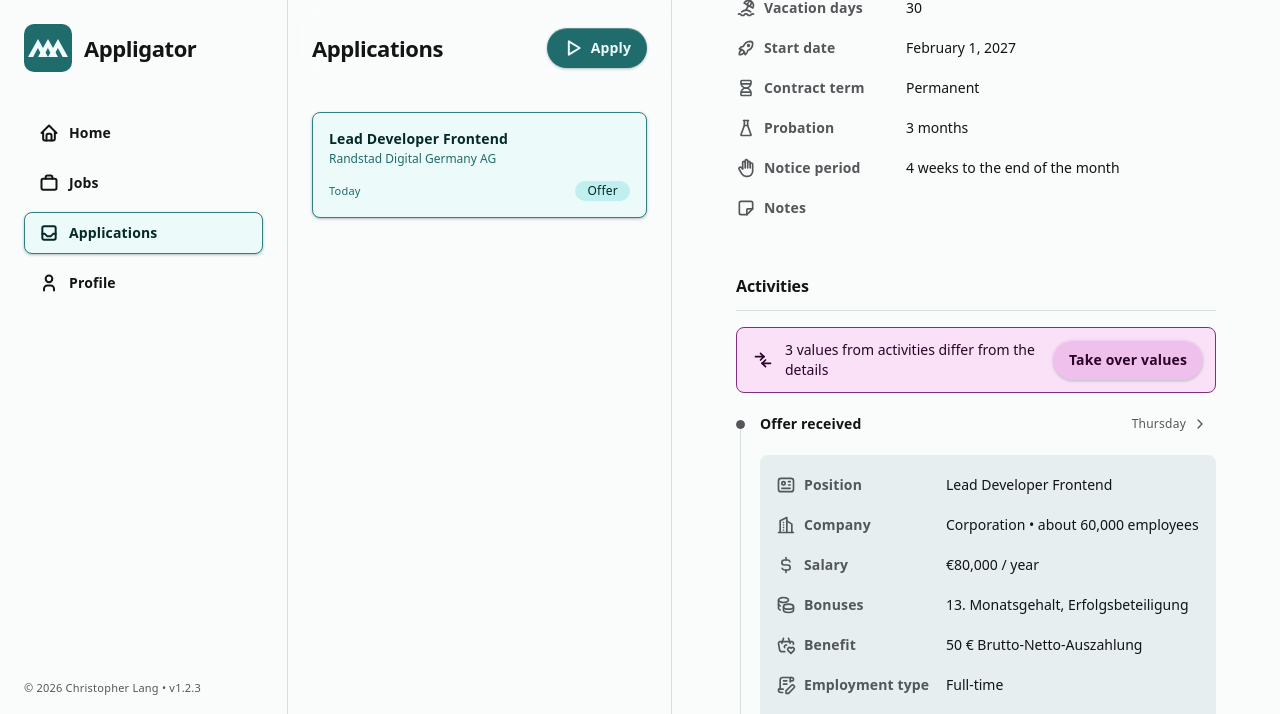
collects the differences of several activities and reviews all of them
The image size is (1280, 714).
(page scrolled)
What coordinates should you click on to do the following:
click the button "Take over values"
I would click on:
 (1128, 360)
Its box is [1053,340,1203,380].
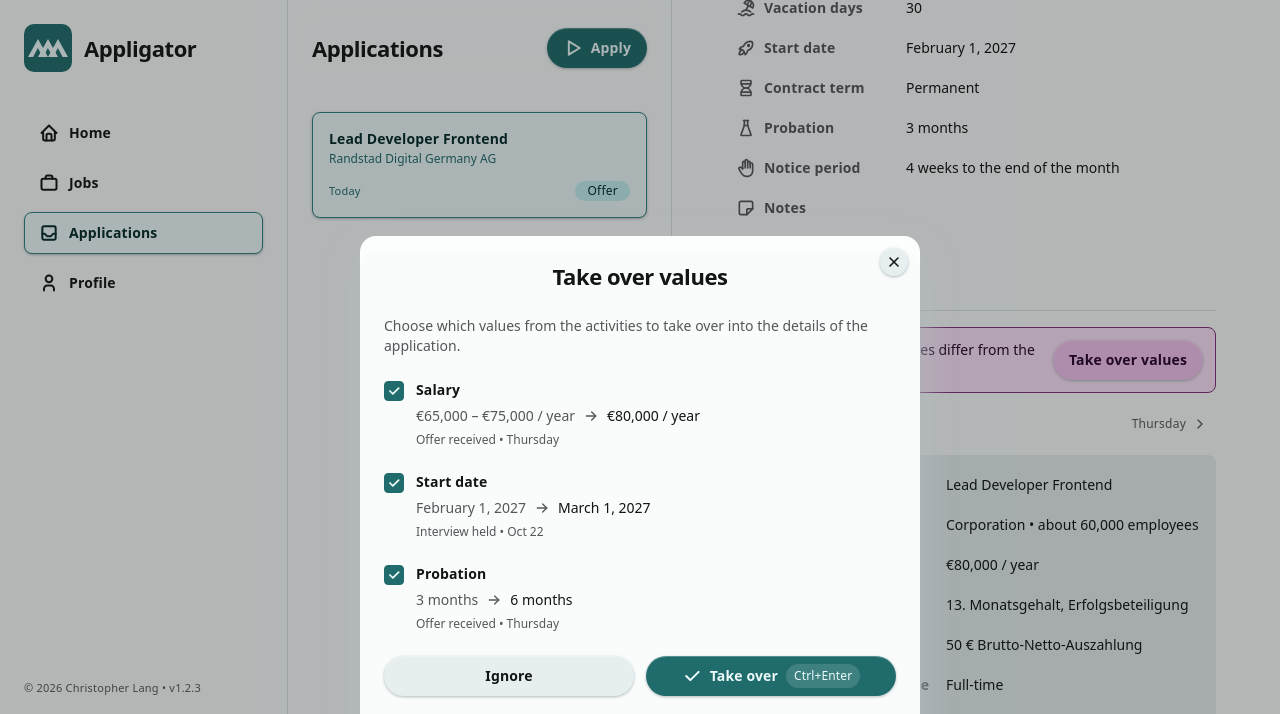
Expected: the checkbox labelled "Salary" shows "Offer received •", [384,380,700,448]
What coordinates should you click on to do the following:
click the button "Take over Ctrl+Enter"
I would click on:
 (771, 676)
Its box is [646,656,896,696].
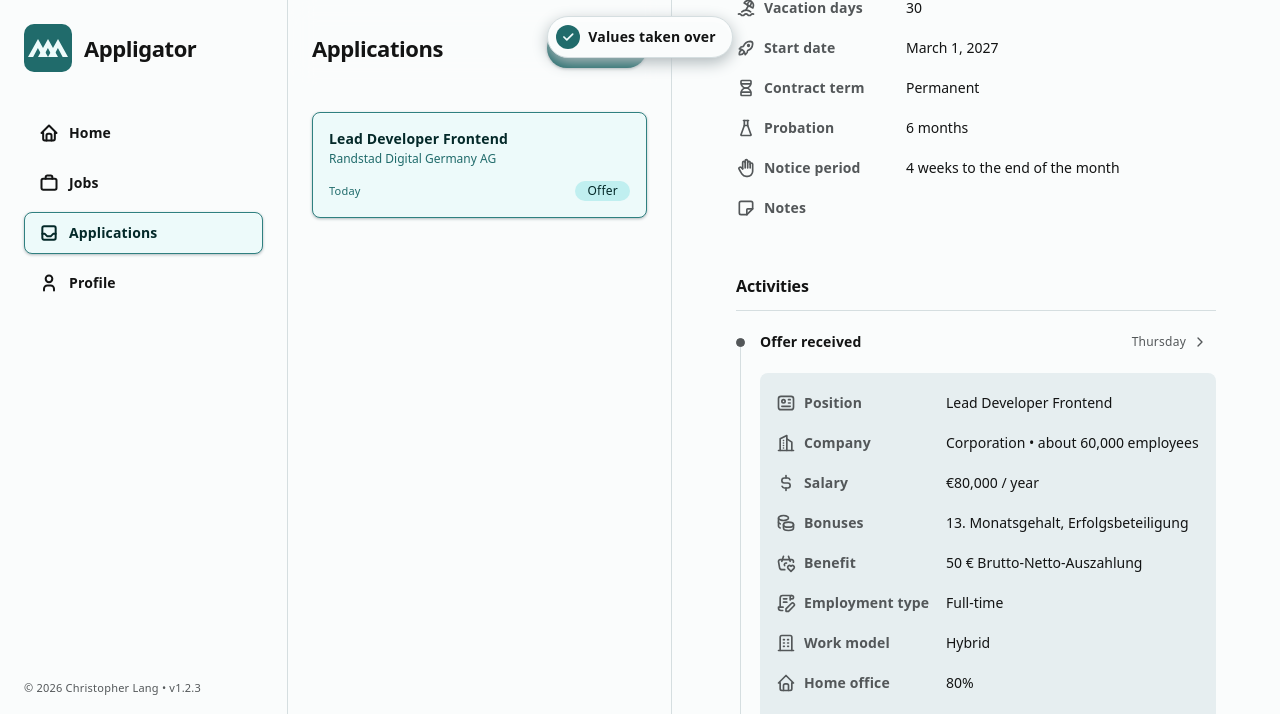
Expected: the heading "Values taken over" is shown, [588,27,716,47]
